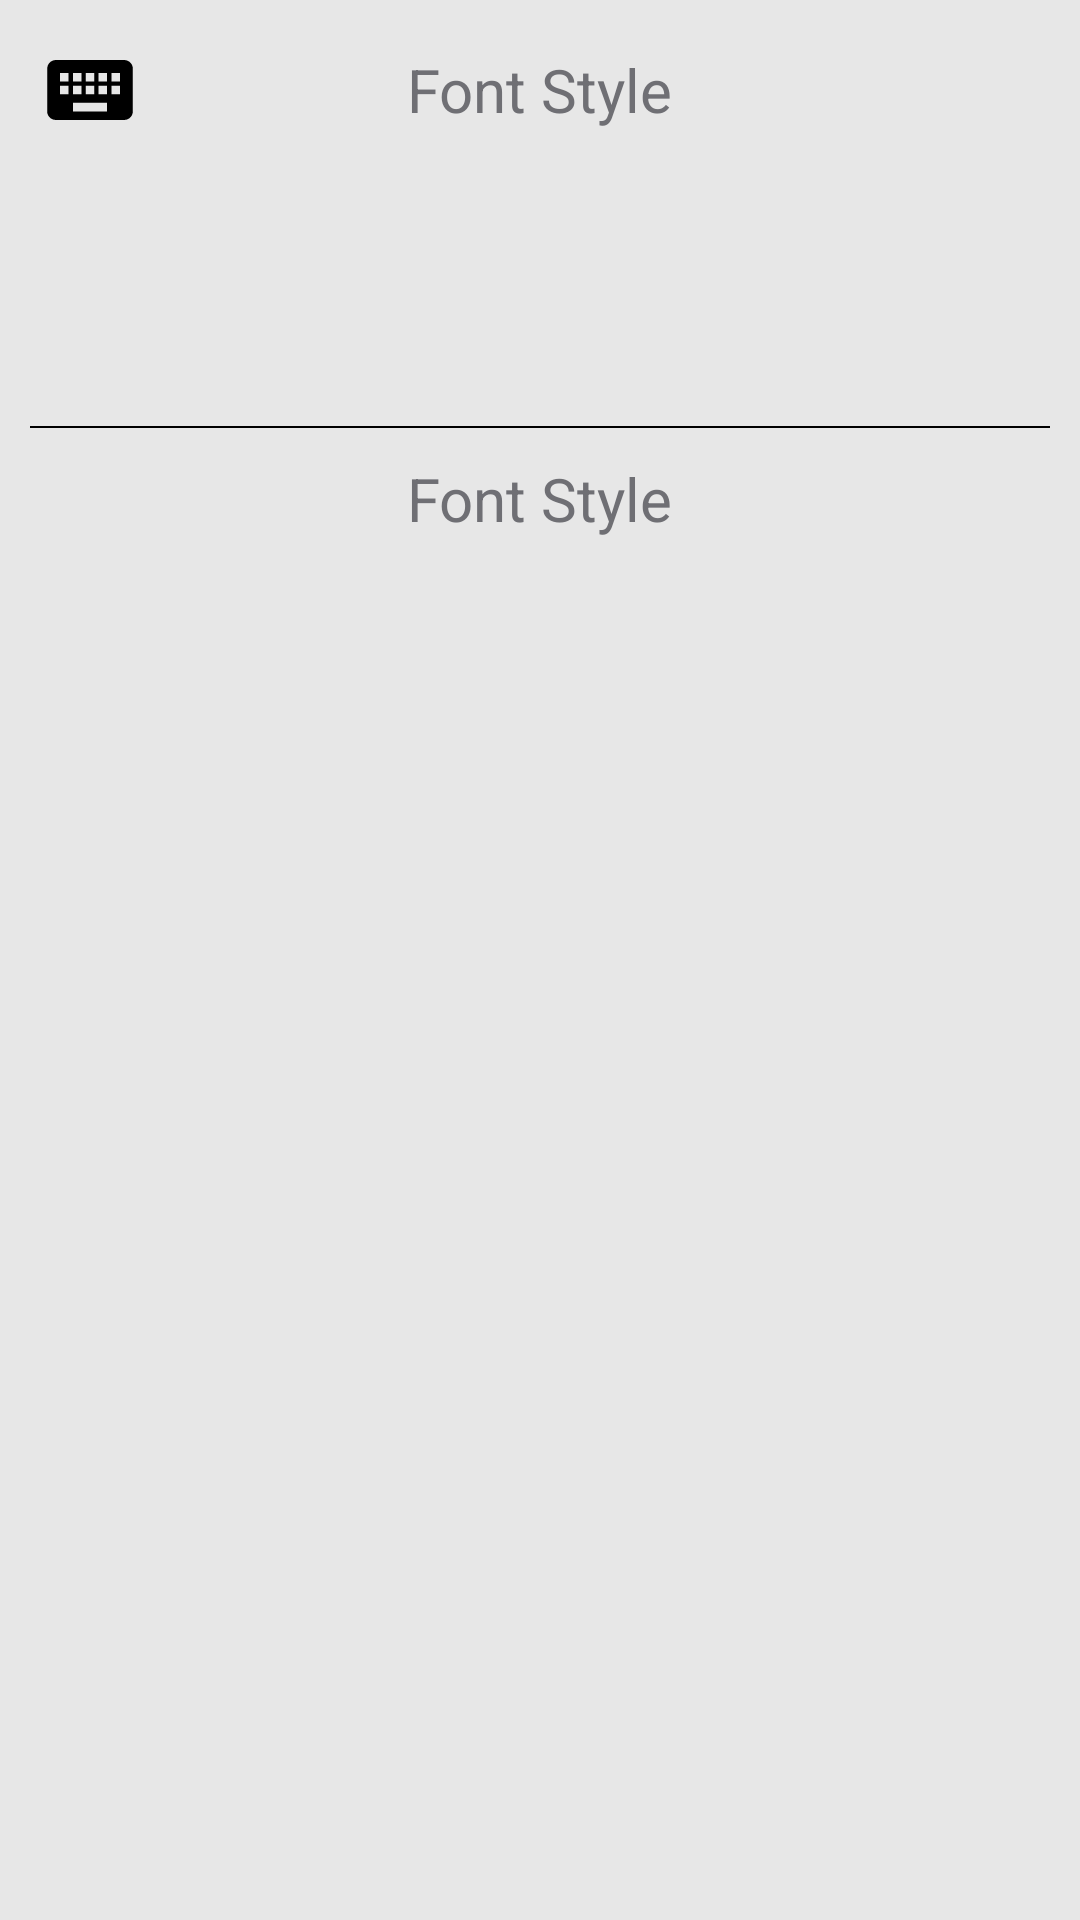

Named icons in this screenshot (1080 × 1920) and their bounding boxes, (x1, y1, x2, y2):
keyboard: (47, 60, 133, 120)
